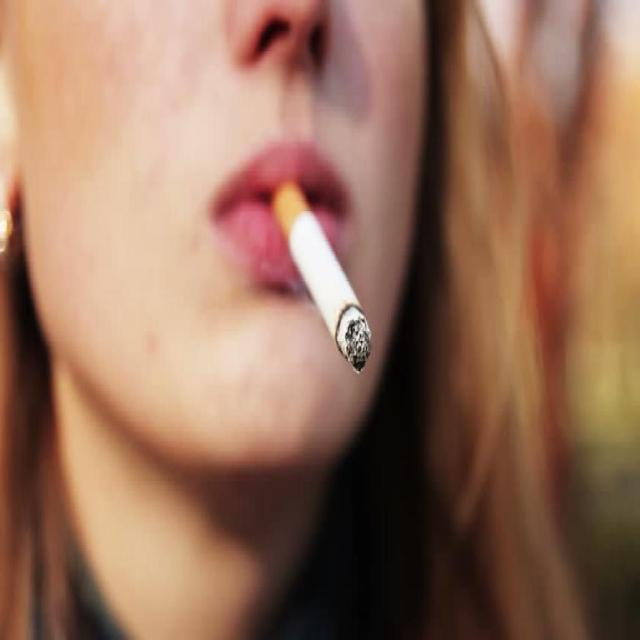smoking: (40, 1, 402, 489)
